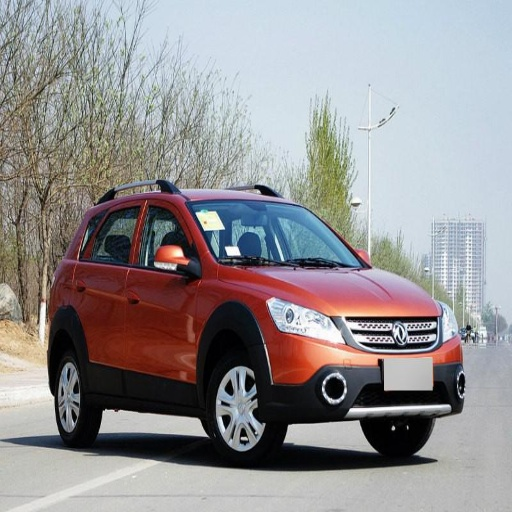front_bumper: (266, 316, 463, 415)
front_right_door: (125, 199, 202, 400)
front_right_light: (269, 298, 348, 345)
